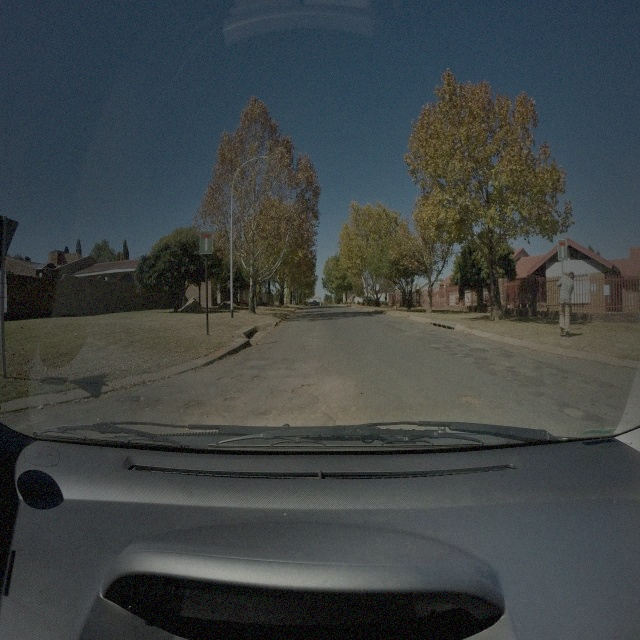pothole: (290, 384, 319, 401), (460, 395, 480, 407), (220, 374, 241, 385), (222, 396, 240, 407), (251, 373, 263, 382), (304, 338, 315, 345)
